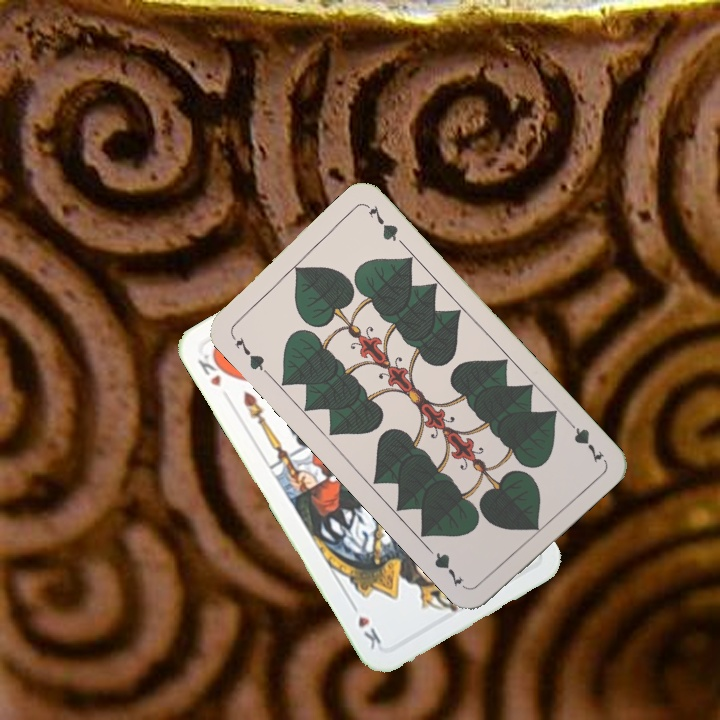G7: (561, 414, 607, 466), (226, 329, 271, 377)
HK: (193, 345, 230, 390)
